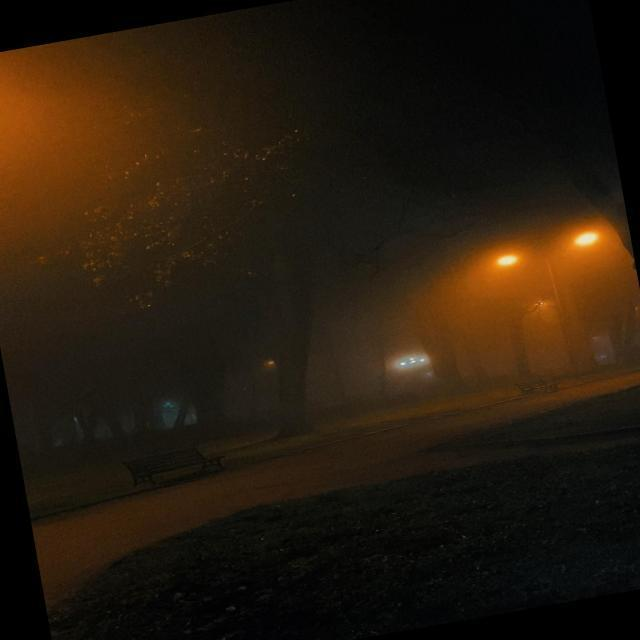on: (5, 63, 102, 258), (460, 203, 624, 304)
